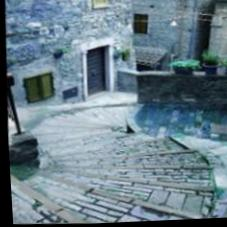Animal: (31, 146, 172, 226)
